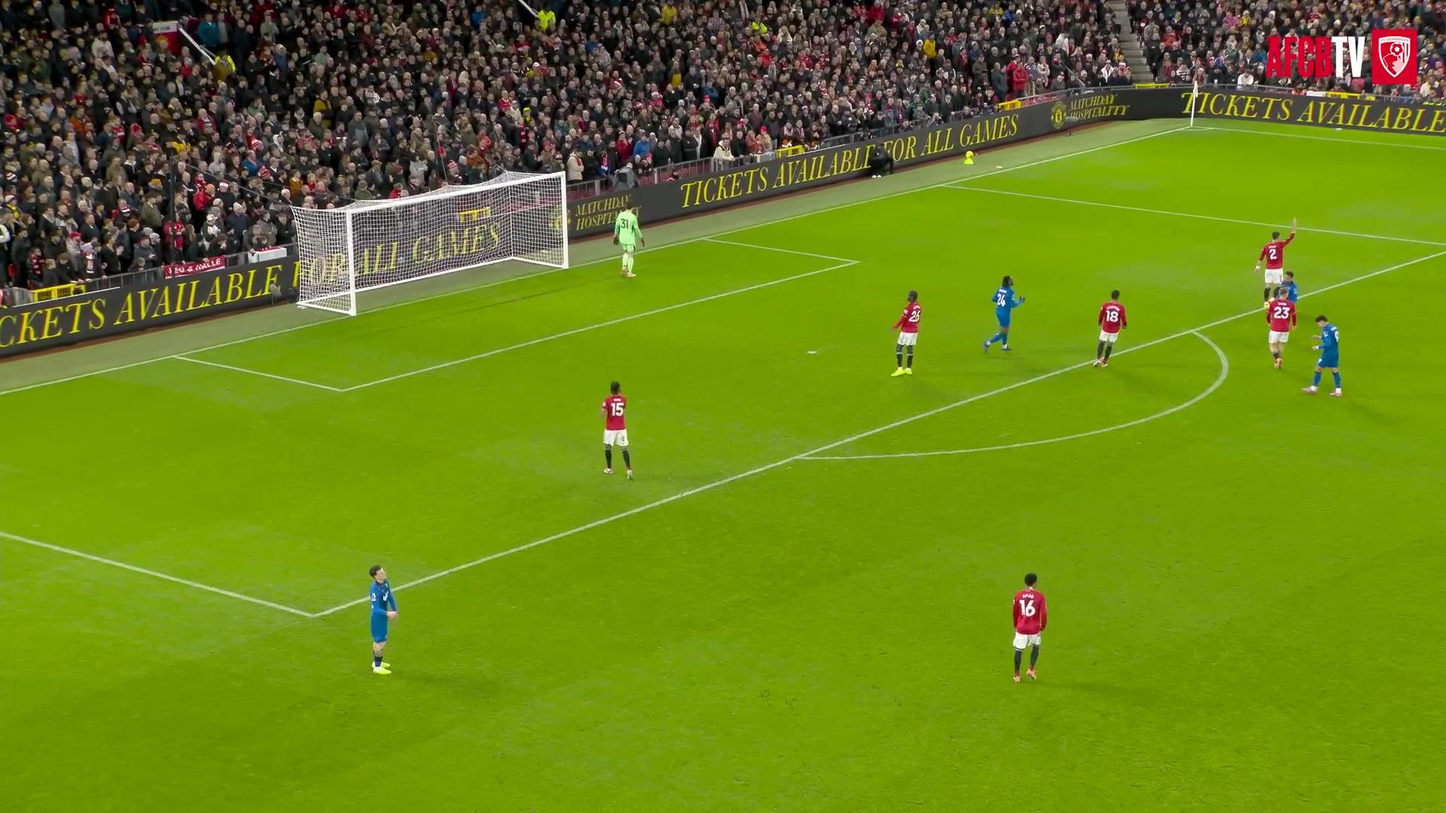player: (1013, 573, 1047, 682), (1255, 220, 1295, 305), (601, 382, 633, 479), (369, 565, 397, 674), (1303, 315, 1341, 395), (984, 276, 1023, 352), (1094, 290, 1127, 367), (892, 290, 921, 375), (1266, 285, 1296, 367), (613, 207, 645, 277), (1281, 272, 1298, 302)
